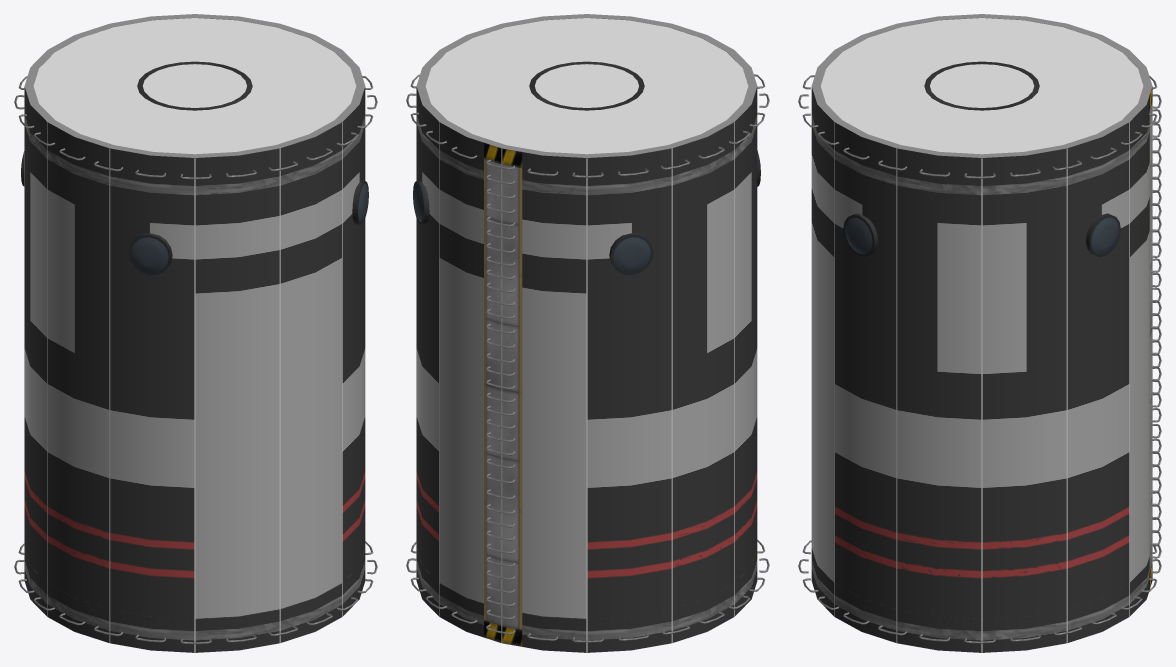
Rendered from BOW.FBX.
The picture shows the model from 3 angles, left to right: view 1: azimuth 30°, elevation 25°; view 2: azimuth 150°, elevation 25°; view 3: azimuth 270°, elevation 25°; orthographic projection.
Parts seen in each view (by area): view 1: BOWOuterShell, Cylinder001, MainBody, Window009, CrewPort; view 2: BOWOuterShell, Cylinder001, MainBody, Window011, CrewPort; view 3: BOWOuterShell, Cylinder001, MainBody, CrewPort, Window007, Window013.
Part boxes in pixels (bbox=[...]): BOWOuterShell: bbox=[24, 87, 365, 652]; Cylinder001: bbox=[24, 18, 356, 652]; MainBody: bbox=[24, 14, 365, 157]; Window009: bbox=[128, 235, 171, 275]; CrewPort: bbox=[137, 61, 252, 110]; BOWOuterShell: bbox=[416, 87, 757, 652]; Cylinder001: bbox=[416, 18, 748, 652]; MainBody: bbox=[416, 14, 757, 157]; Window011: bbox=[610, 235, 653, 275]; CrewPort: bbox=[529, 61, 644, 110]; BOWOuterShell: bbox=[811, 87, 1152, 652]; Cylinder001: bbox=[820, 18, 1152, 652]; MainBody: bbox=[811, 14, 1152, 157]; CrewPort: bbox=[924, 61, 1039, 110]; Window007: bbox=[843, 215, 874, 256]; Window013: bbox=[1089, 215, 1120, 256].
Bounding box in the file's own units: 4 × 6.01 × 4.
